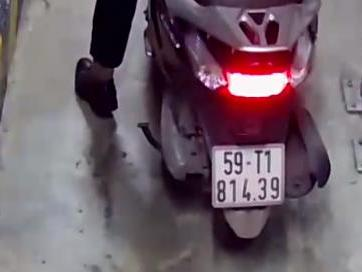num_plate: (212, 145, 286, 207)
